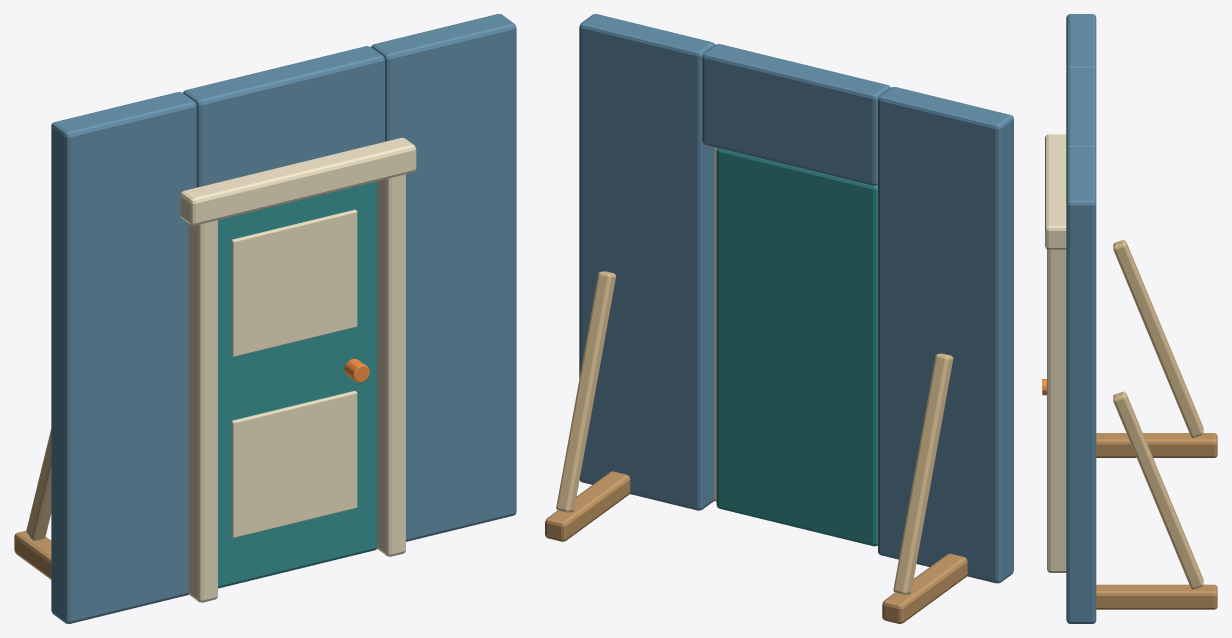
Rendered from S001_hinged_door_wall.glb.
3 views of the same model, side by side, from view 1: azimuth 30°, elevation 25°; view 2: azimuth 150°, elevation 25°; view 3: azimuth 270°, elevation 25° (orthographic). The views are drawn at different scales.
Visible parts, largest first — view 1: wall_side, wall_side.001, paneled_door, wall_lintel, paneled_door_inset, paneled_door_inset.001, door_jamb, door_jamb.001, door_lintel, rear_triangular_brace, rear_plywood_foot; view 2: wall_side, wall_side.001, paneled_door, wall_lintel, rear_triangular_brace, rear_triangular_brace.001, rear_plywood_foot.001, rear_plywood_foot, door_jamb.001; view 3: wall_side.001, door_jamb.001, rear_triangular_brace.001, rear_triangular_brace, rear_plywood_foot.001, rear_plywood_foot, door_lintel, wall_lintel, wall_side.
Part boxes in pixels (x1,y1,x2,y2): wall_side: (51,92,196,623); wall_side.001: (371,14,516,541); paneled_door: (218,181,377,588); wall_lintel: (183,46,384,187); paneled_door_inset: (231,390,357,537); paneled_door_inset.001: (231,209,357,356); door_jamb: (188,220,217,602); door_jamb.001: (377,174,405,556); door_lintel: (180,137,416,225); rear_triangular_brace: (26,429,51,540); rear_plywood_foot: (14,531,51,579); wall_side: (878,87,1013,583); wall_side.001: (579,14,714,510); paneled_door: (716,148,877,546); wall_lintel: (702,44,890,185); rear_triangular_brace: (893,353,953,594); rear_triangular_brace.001: (556,271,616,512); rear_plywood_foot.001: (545,471,630,541); rear_plywood_foot: (882,553,967,623); door_jamb.001: (714,147,717,501); wall_side.001: (1066,148,1096,623); door_jamb.001: (1047,249,1066,572); rear_triangular_brace.001: (1113,391,1203,589); rear_triangular_brace: (1113,240,1203,437); rear_plywood_foot.001: (1096,584,1217,609); rear_plywood_foot: (1096,433,1217,457); door_lintel: (1045,134,1066,249); wall_lintel: (1066,69,1096,151); wall_side: (1066,14,1096,72).
Size of the model in its own units: 2.4 by 2.5 by 0.94.
